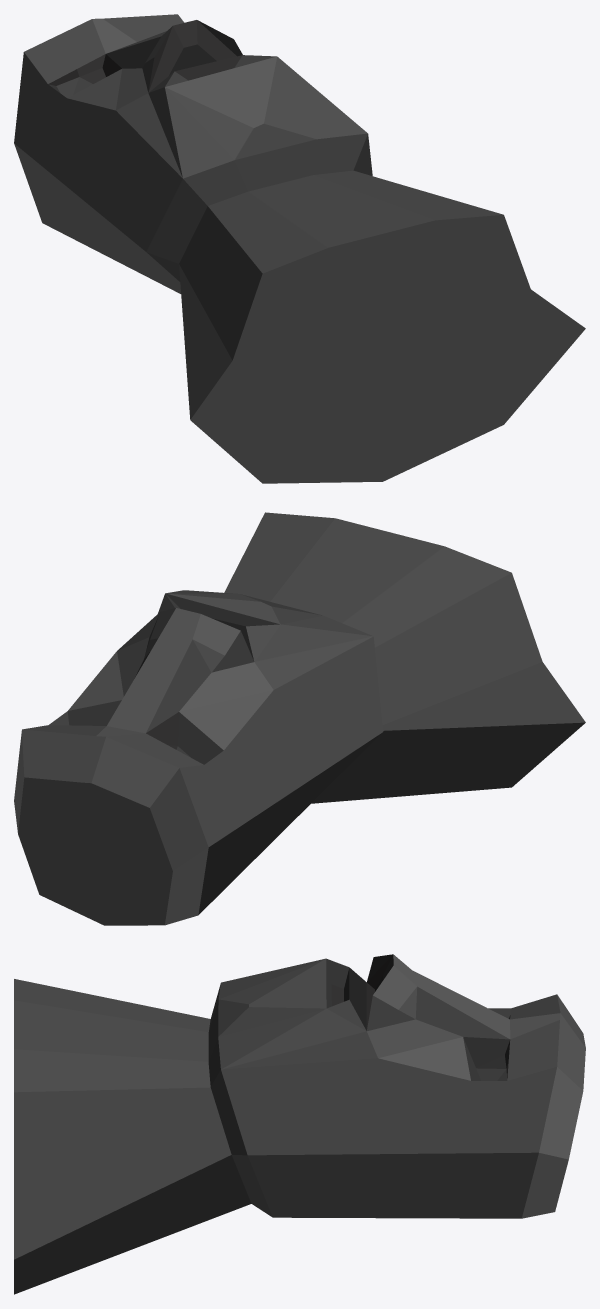
The model's file is statue_8.fbx.
3 renders of one model, top to bottom at view 1: azimuth 30°, elevation 25°; view 2: azimuth 150°, elevation 25°; view 3: azimuth 270°, elevation 25°, orthographic. The views are drawn at different scales.
Visible parts, largest first — view 1: statue_8; view 2: statue_8; view 3: statue_8.
Boxes of the visible parts, x1,y1,x2,y2 form: statue_8: (14,14,585,483); statue_8: (14,512,585,925); statue_8: (14,954,585,1294).
Size of the model in its own units: 94.13 by 71.65 by 122.
